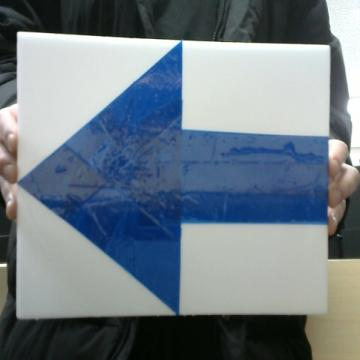blue_left: (20, 42, 327, 313)
